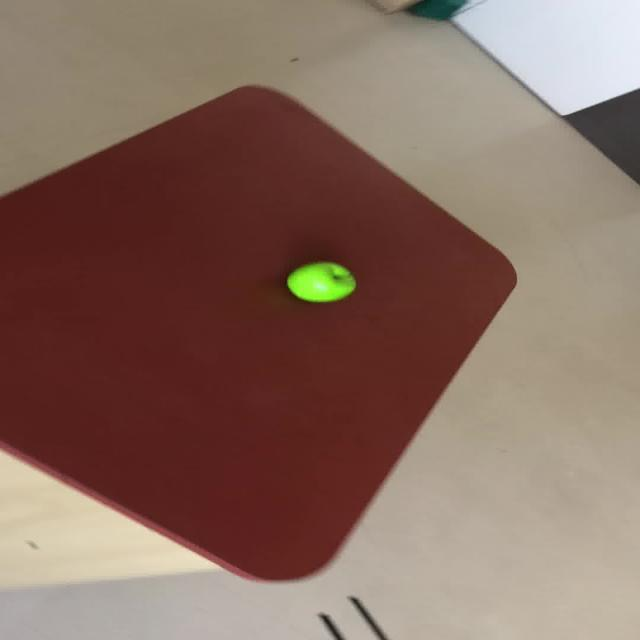apple: (284, 260, 356, 302)
